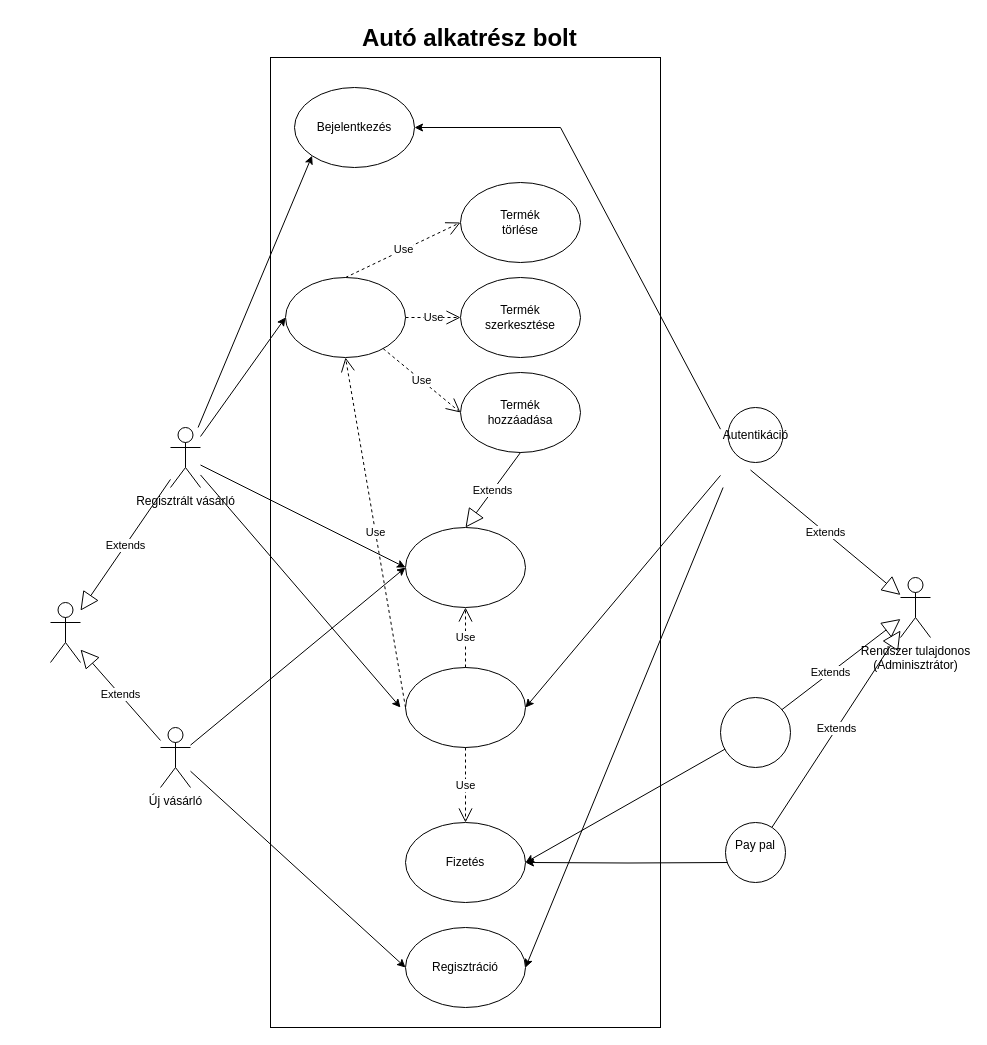
The diagram is 987 pixels wide and 1045 high, and some of its shapes have lost their labels. The shapes that lost their labels are listed below. From the top down, each one's centre as x and y in pixels, then its label:
point 345,317: Kosár
point 465,567: Termékek megtekintése
point 65,632: Weboldal látogató
point 465,707: Vásárlás (kosárba helyezés)
point 755,732: Bank kártya feldolgozó rendszer
